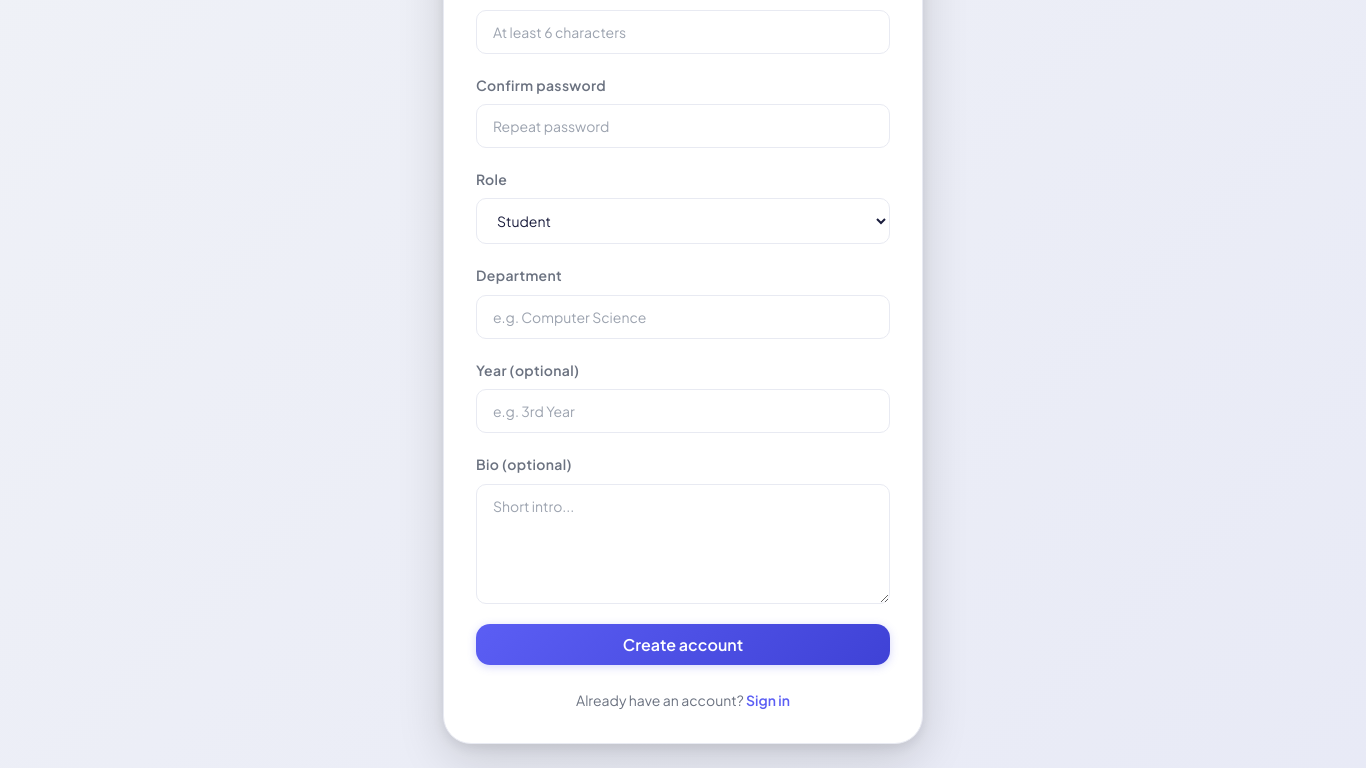
Test: RegisterPage › shows an error when submitting an empty form
(page scrolled)
Click the button "Create account" at (683, 644), box [476,624,890,664]
(page scrolled)
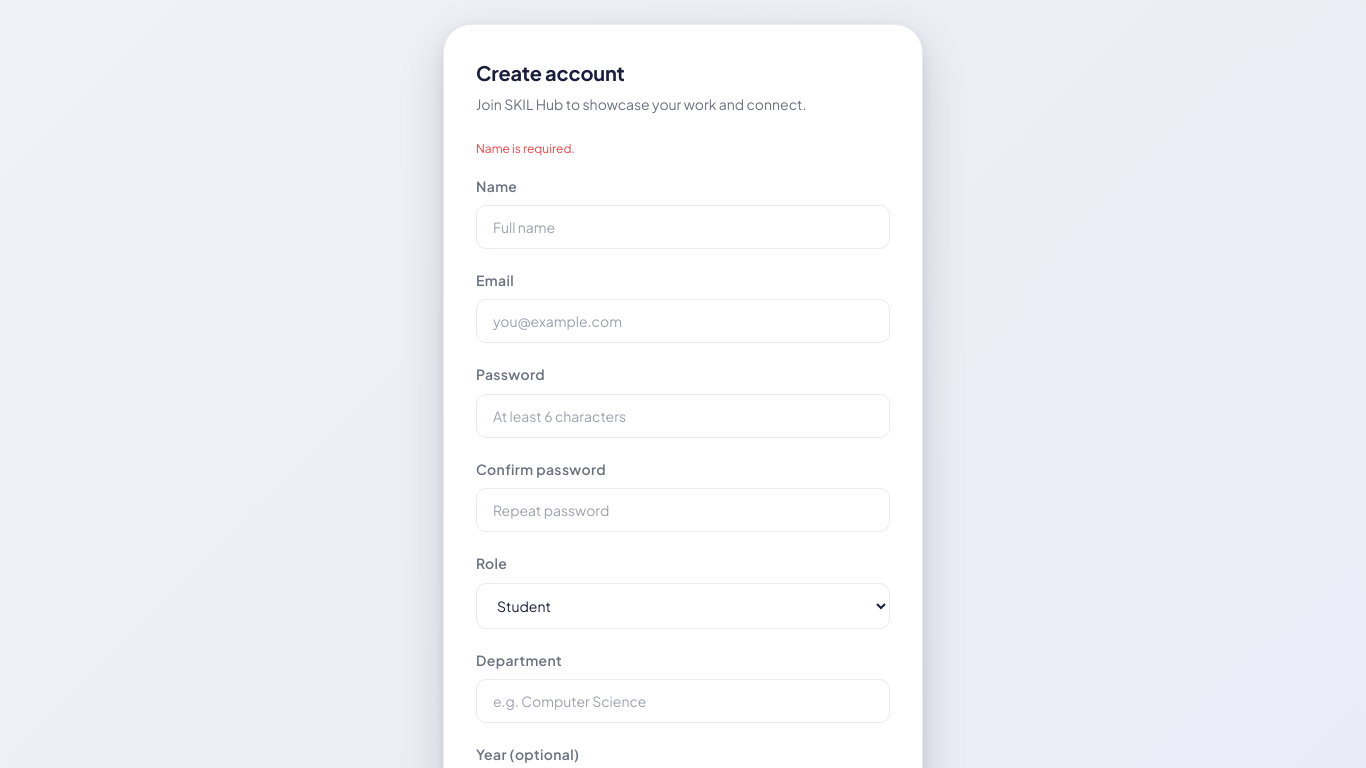
Expected: the message "Name is required." is shown, [476,141,575,156]
